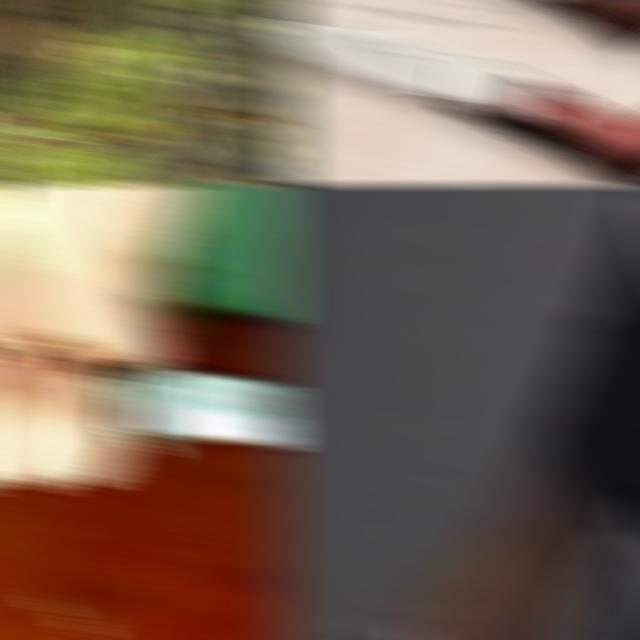Knife: (270, 18, 640, 186)
Knife_Handle: (0, 256, 292, 495), (270, 525, 582, 640)
